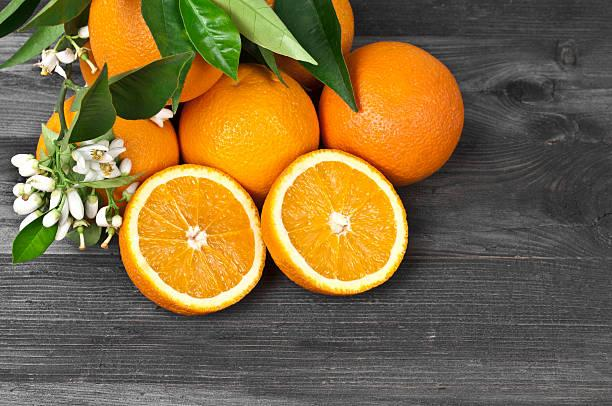orange: (254, 147, 422, 300), (110, 156, 268, 314), (316, 40, 457, 167), (179, 62, 324, 171)
